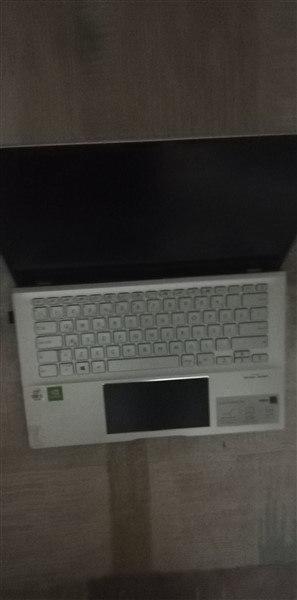laptop: (2, 134, 293, 448)
